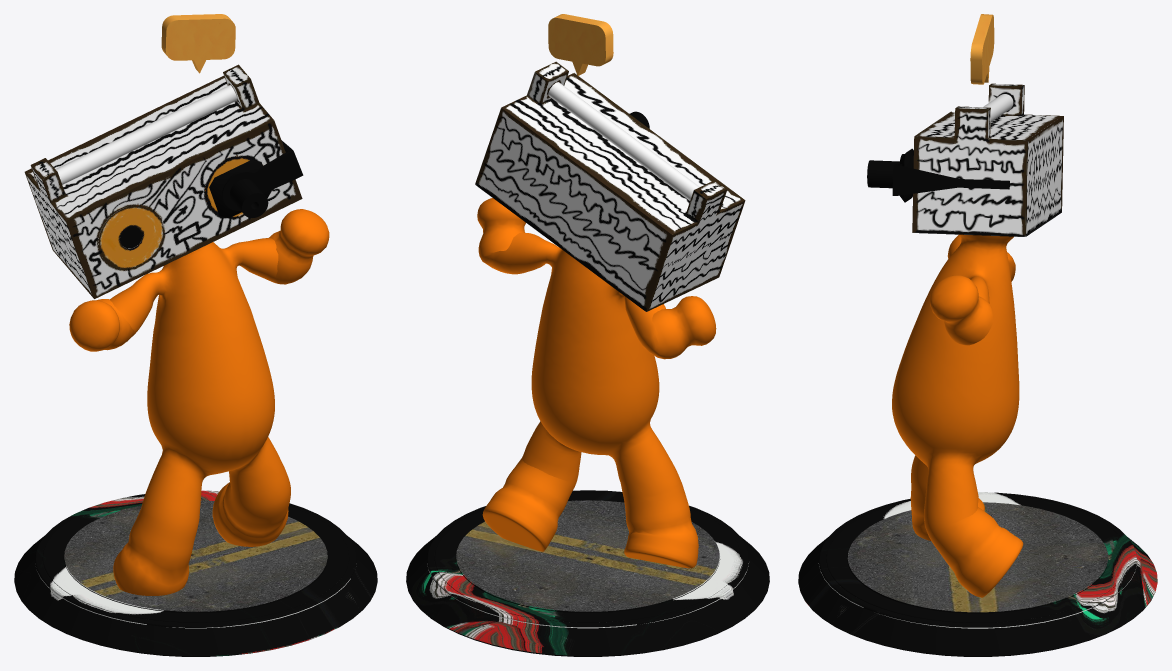
The model's file is 115_sanitized.glb.
The picture shows the model from 3 angles, left to right: view 1: azimuth 30°, elevation 25°; view 2: azimuth 150°, elevation 25°; view 3: azimuth 270°, elevation 25°; orthographic projection.
Visible parts, largest first — view 1: BBody; view 2: BBody; view 3: BBody.
Boxes of the visible parts, x1,y1,x2,y2 form: BBody: (14, 14, 377, 656); BBody: (406, 14, 769, 656); BBody: (798, 14, 1157, 656).
Bounding box in the file's own units: 1.45 × 2.48 × 1.45.
6 materials, 4 textured.
